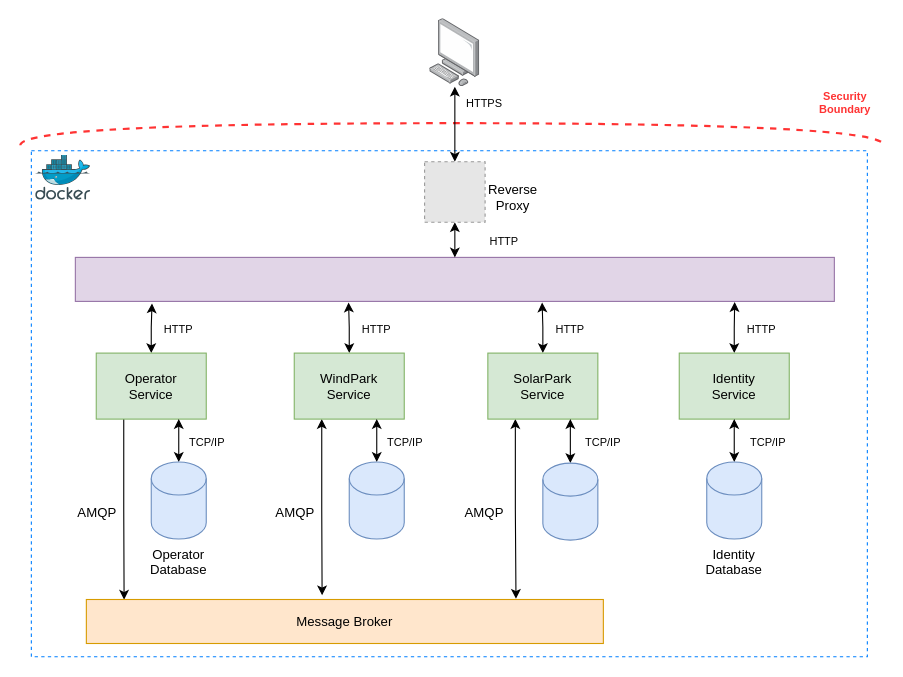
The diagram is 903 pixels wide and 677 high, and some of its shapes have lost their labels. Grey dashed boxes stand in for pictures. The centre of each missing label's shape, as x and y in pixels:
API Gateway: the point at 454,278
SolarPark Database: the point at 570,501
WindPark Database: the point at 376,500
